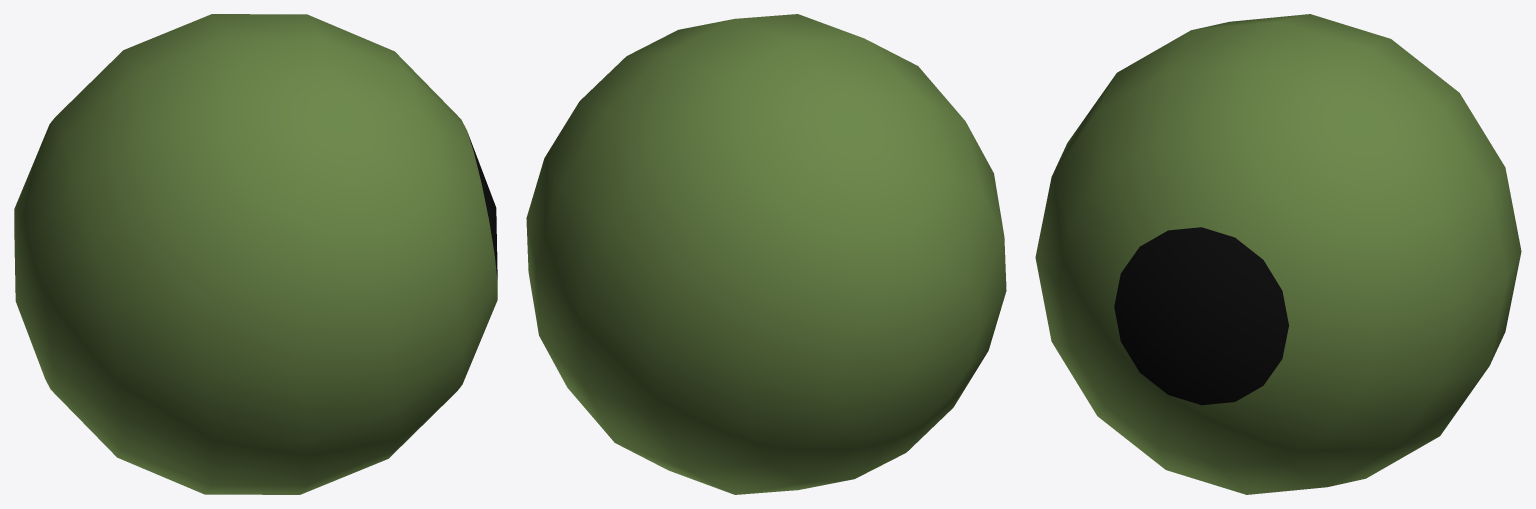
The model's file is python_eye.obj.
3 views of the same model, side by side, from view 1: azimuth 30°, elevation 25°; view 2: azimuth 150°, elevation 25°; view 3: azimuth 270°, elevation 25° (orthographic).
Visible parts, largest first — view 1: eye; view 2: eye; view 3: eye.
Part boxes in pixels (x1,y1,x2,y2): eye: [14, 14, 497, 494]; eye: [526, 14, 1006, 494]; eye: [1035, 14, 1521, 494].
Size of the model in its own units: 0.0487 by 0.0482 by 0.0487.
